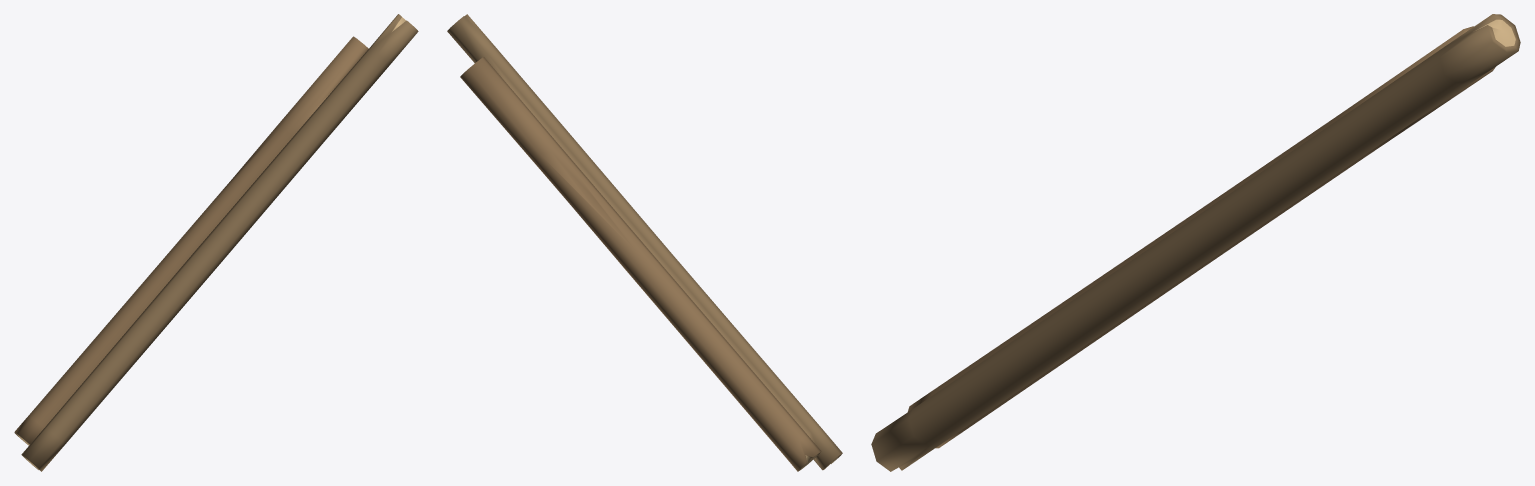
The model's file is rpgpp_ag_roof_01_9x4x3_end_01a_half.fbx.
3 views of the same model, side by side, from view 1: azimuth 30°, elevation 25°; view 2: azimuth 150°, elevation 25°; view 3: azimuth 330°, elevation 25° (orthographic). The views are drawn at different scales.
Visible parts, largest first — view 1: rpgpp_ag_roof_01_9x4x3_end_01a_half; view 2: rpgpp_ag_roof_01_9x4x3_end_01a_half; view 3: rpgpp_ag_roof_01_9x4x3_end_01a_half.
Part boxes in pixels (bbox=[...]): rpgpp_ag_roof_01_9x4x3_end_01a_half: bbox=[14, 14, 418, 471]; rpgpp_ag_roof_01_9x4x3_end_01a_half: bbox=[447, 14, 842, 471]; rpgpp_ag_roof_01_9x4x3_end_01a_half: bbox=[871, 14, 1520, 471].
Bounding box in the file's own units: 6.01 × 5.37 × 0.8009.
